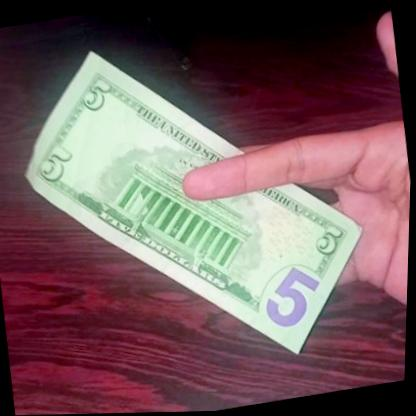five-back: (2, 7, 388, 399)
